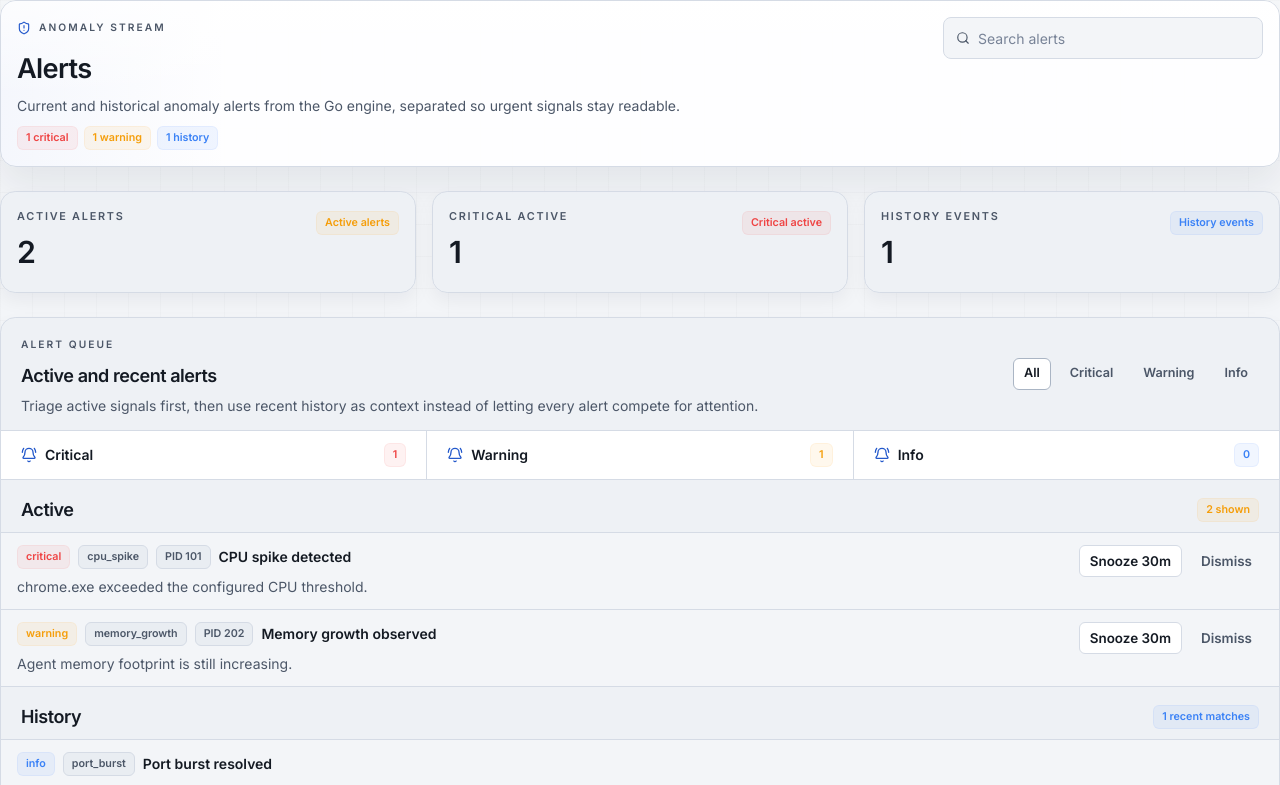
Scenario: AlertsPage › filters alerts by search text
The image size is (1280, 785).
Type "memory" into the field named "Search alerts by title, type, severity, or PID" at x=1114, y=38, box [978,18,1250,58]
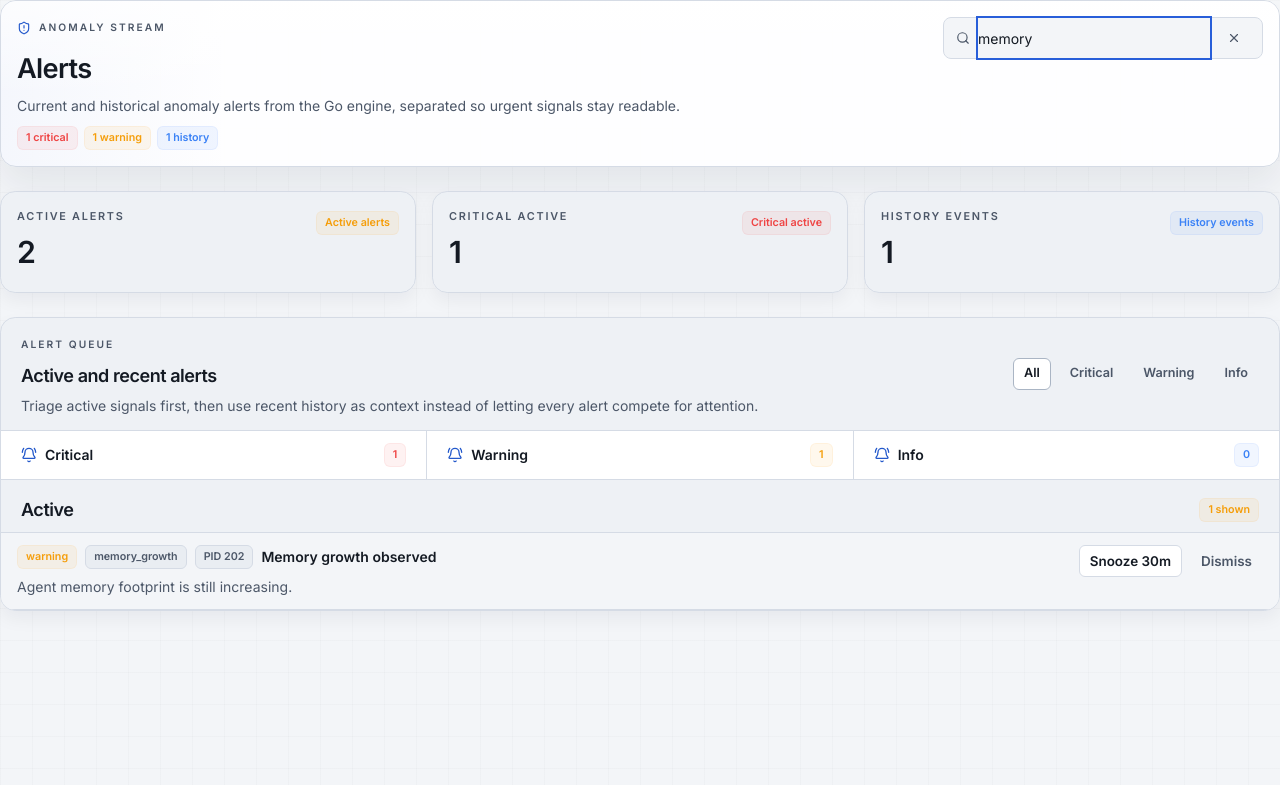
Expected: the text "Memory growth observed" is shown, [261,547,436,567]
Expected: the text "CPU spike detected" is gone
